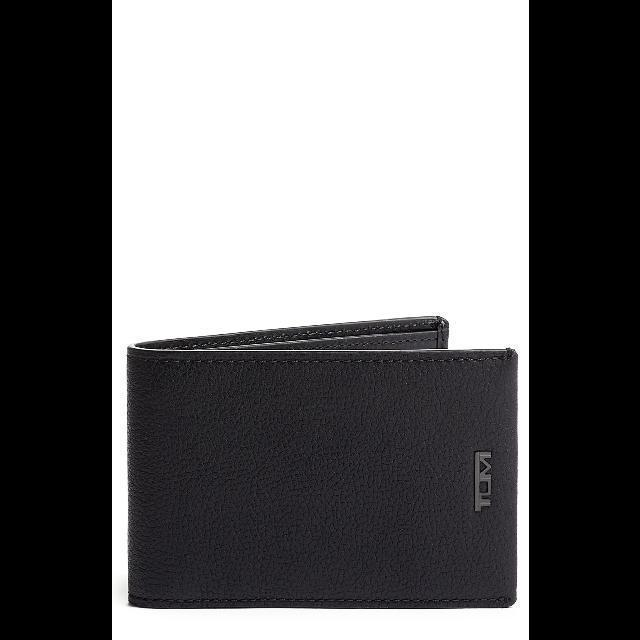wallet: (128, 313, 514, 611)
